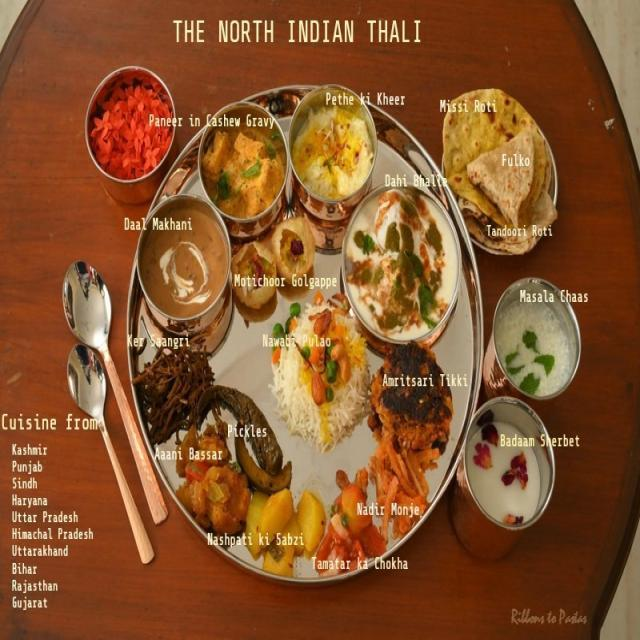raita: (483, 274, 589, 408)
rice: (265, 296, 376, 455), (489, 280, 590, 407), (288, 79, 380, 212)
roti: (447, 83, 554, 248)
sweet: (463, 395, 553, 536)
veg-fry: (123, 182, 236, 359)
